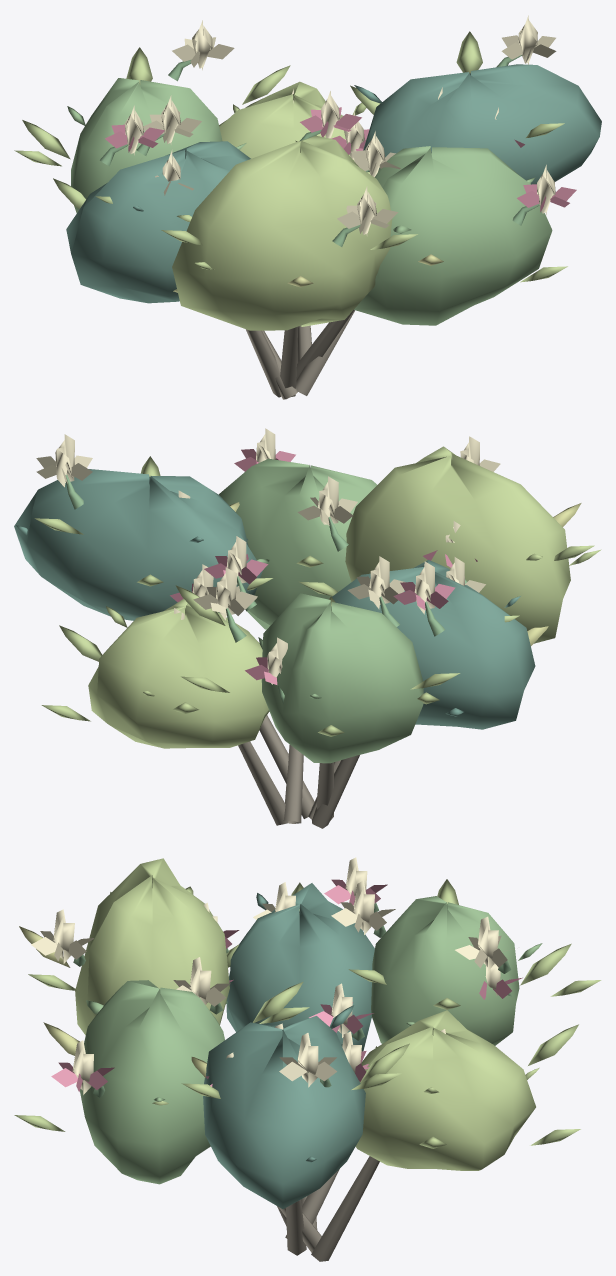
Rendered from bush_flowers.glb.
3 views of the same model, one above another, from view 1: azimuth 30°, elevation 25°; view 2: azimuth 150°, elevation 25°; view 3: azimuth 270°, elevation 25° (orthographic). The views are drawn at different scales.
Visible parts, largest first — view 1: bush_flowers; view 2: bush_flowers; view 3: bush_flowers.
Boxes of the visible parts, box(x1,y1,x2,y2) form: bush_flowers: box(14, 15, 601, 399); bush_flowers: box(14, 428, 601, 828); bush_flowers: box(14, 857, 601, 1261).
Bounding box in the file's own units: 2.31 × 1.39 × 2.16.
